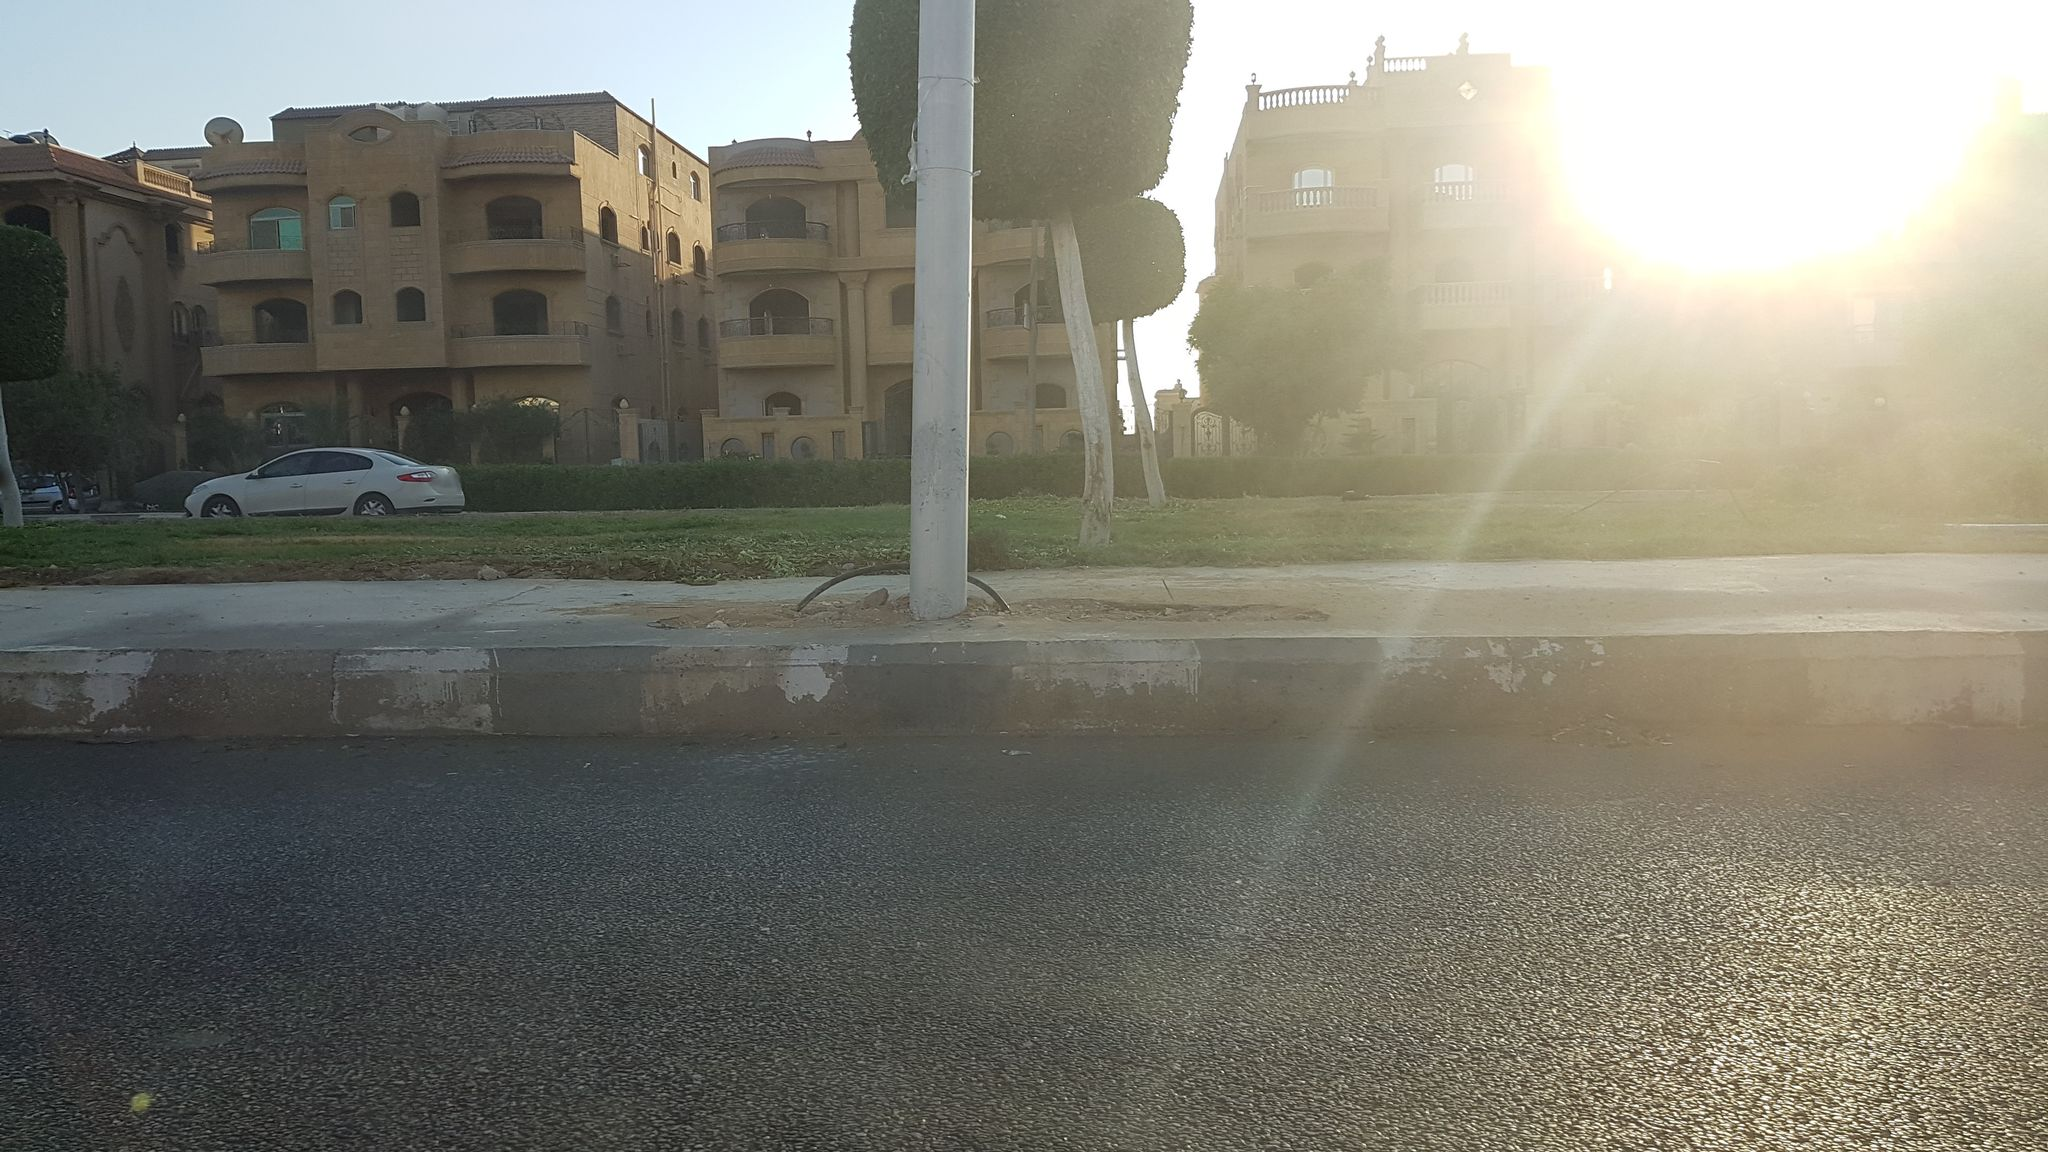car: (183, 444, 467, 518), (13, 473, 101, 515)
